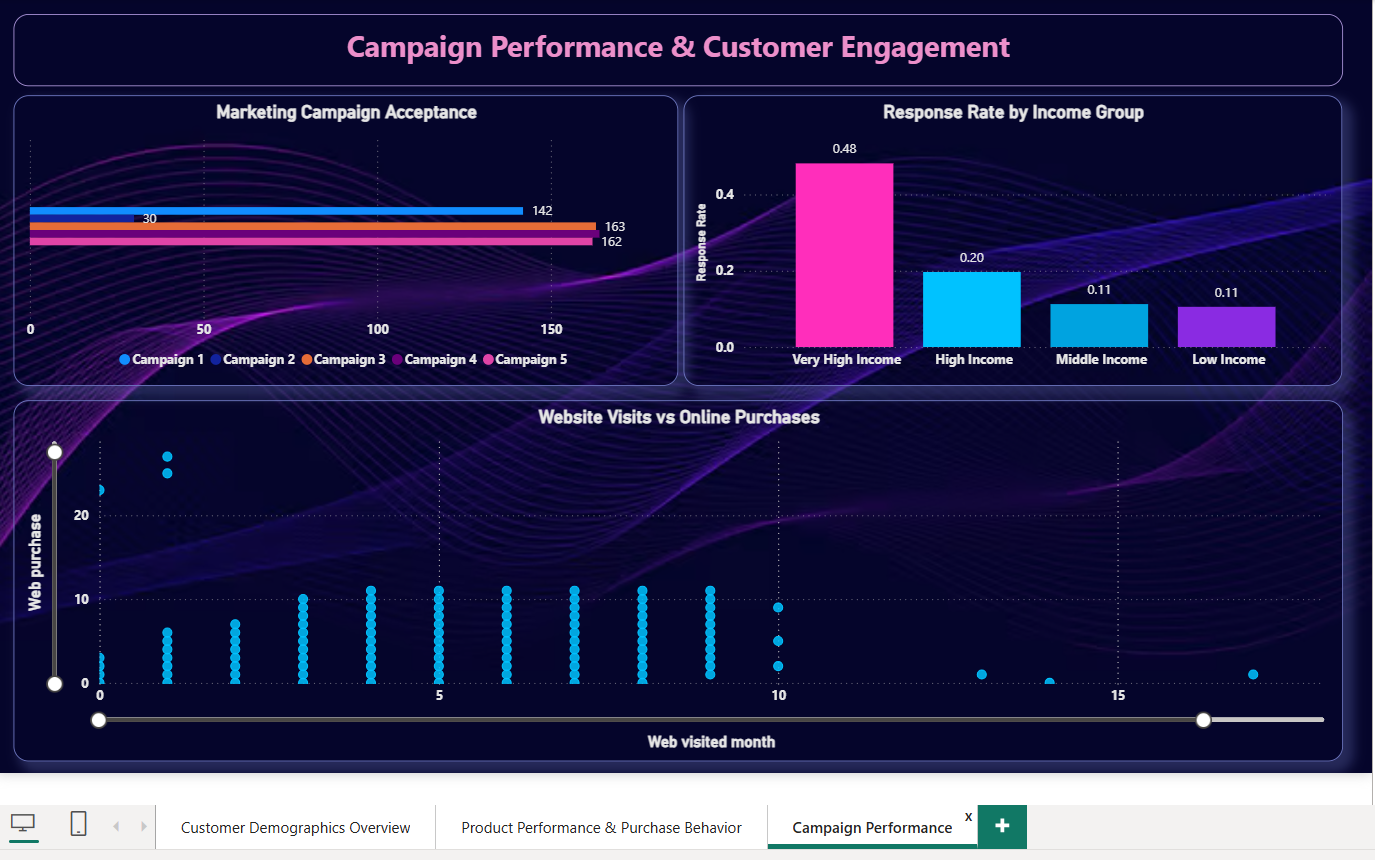

The dashboard page shown, as its layout file describes it:
{"tool":"powerbi","page":{"name":"Campaign Performance","canvas":[1280,720],"ordinal":2},"visuals":[{"type":"clusteredBarChart","title":"Marketing Campaign Acceptance","fields":{"Y":["Sum(marketing_campaign.AcceptedCmp1)","Sum(marketing_campaign.AcceptedCmp2)","Sum(marketing_campaign.AcceptedCmp3)","Sum(marketing_campaign.AcceptedCmp4)","Sum(marketing_campaign.AcceptedCmp5)"]},"box":[15.7,90,618.6,270],"z":0},{"type":"clusteredColumnChart","fields":{"Category":["marketing_campaign.Income Group"],"Y":["marketing_campaign.Response Rate"]},"box":[640,90,612.9,270],"z":1000},{"type":"scatterChart","title":"Website Visits vs Online Purchases","fields":{"X":["marketing_campaign.NumWebVisitsMonth"],"Y":["marketing_campaign.NumWebPurchases"]},"box":[15.7,372.9,1237.1,335.7],"z":2000},{"type":"textbox","box":[15.7,14.3,1237.1,67.1],"z":3000}]}

Visuals, with their boxes on the page's 1280x720 design canvas (x1, y1, x2, y2). These are canvas units, not pixel positions in the 1375x860 screenshot, which may show the page scaled, cropped or inside an application window:
"Marketing Campaign Acceptance" clusteredBarChart: bbox=(16, 90, 634, 360)
clusteredColumnChart - marketing_campaign.Income Group x marketing_campaign.Response Rate: bbox=(640, 90, 1253, 360)
"Website Visits vs Online Purchases" scatterChart: bbox=(16, 373, 1253, 709)
textbox: bbox=(16, 14, 1253, 81)
